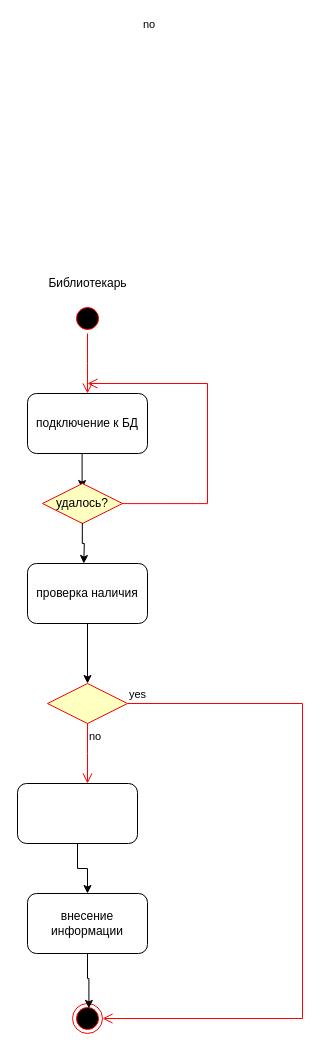
Image size: 330x1051. Some labels were removed from this diagram. The shapes that lost their labels are listed below. From the top down, each one's box as (x1, y1, x2, y2) in pixels, then its label:
(46, 682, 128, 724): Книга есть?
(16, 782, 138, 844): добавление информации о книге в форму добавки
